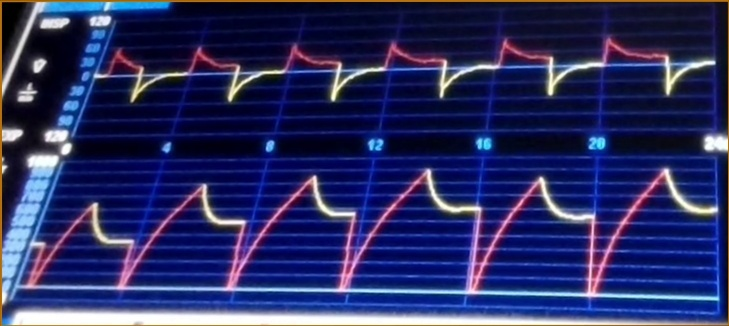Flow: (106, 27, 712, 128)
Leakage Volume: (41, 166, 712, 307)
